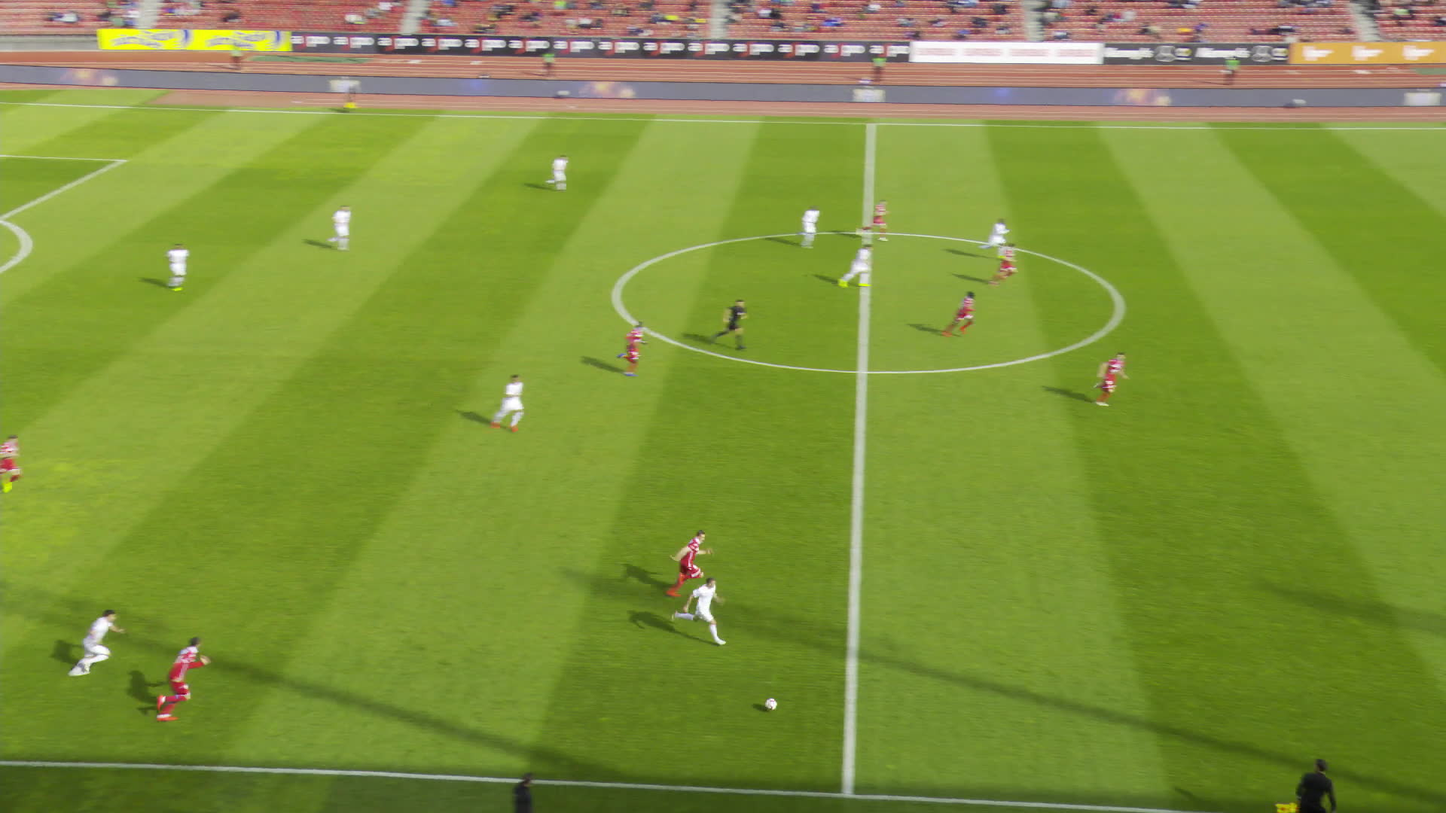ball: (760, 700, 773, 713)
player: (137, 633, 211, 721), (66, 609, 124, 676), (672, 577, 725, 643), (671, 530, 712, 594), (1100, 351, 1136, 407), (490, 374, 523, 431), (617, 320, 648, 376), (837, 242, 874, 287), (942, 291, 975, 337), (856, 199, 889, 240), (0, 434, 23, 492), (980, 218, 1009, 258), (328, 205, 352, 249), (166, 243, 188, 291), (1002, 244, 1027, 286), (0, 294, 17, 351), (798, 206, 819, 248), (545, 154, 568, 191)
referee: (1276, 757, 1336, 812), (710, 300, 749, 349), (341, 84, 356, 110)
